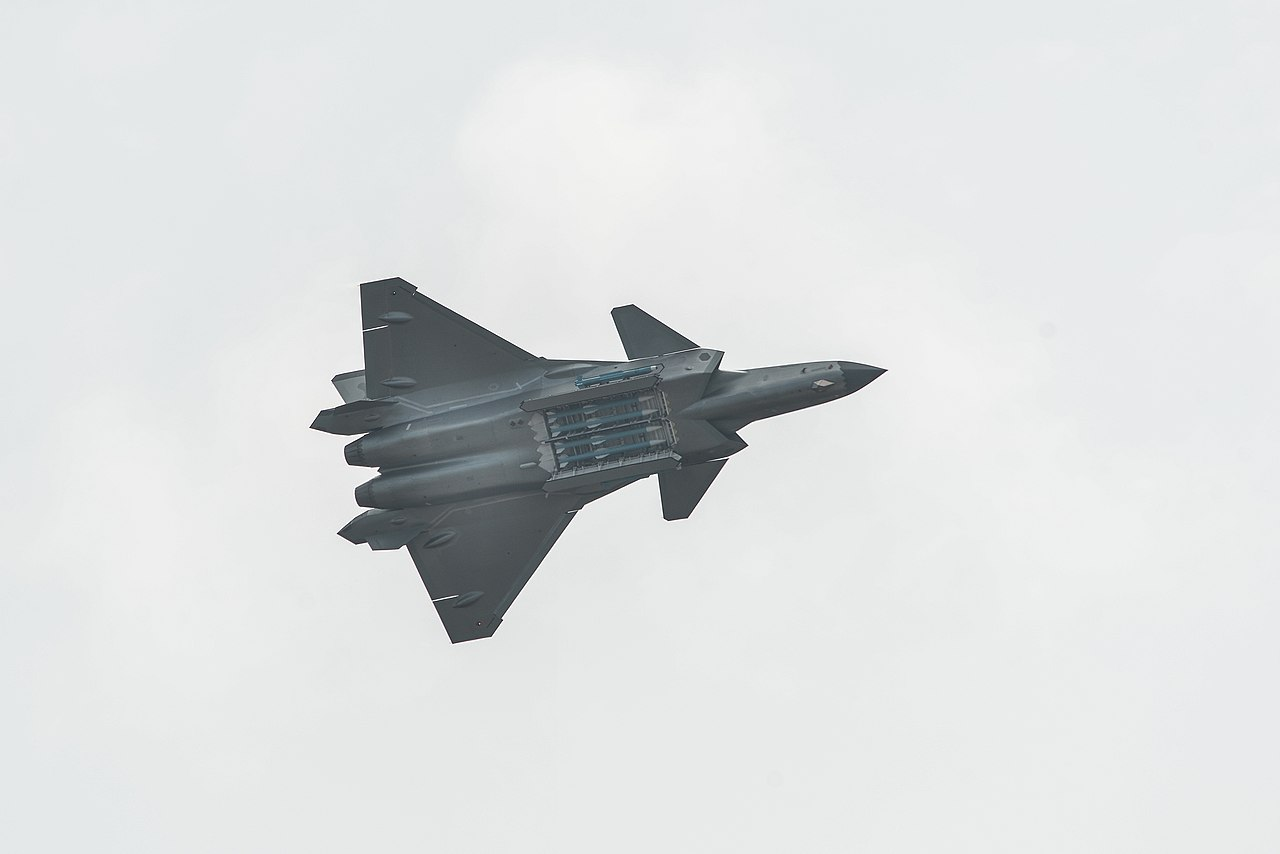J20: (308, 276, 888, 645)
